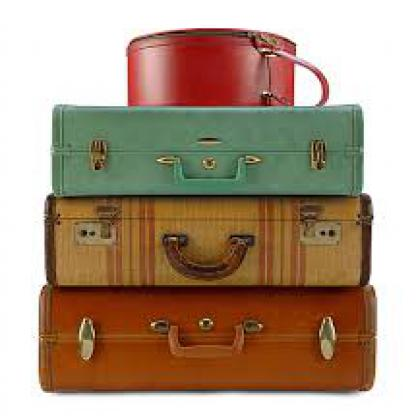maleta: (23, 278, 393, 398), (12, 177, 389, 290), (33, 94, 383, 205)
